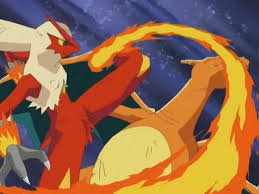charizard: (97, 56, 259, 192)
